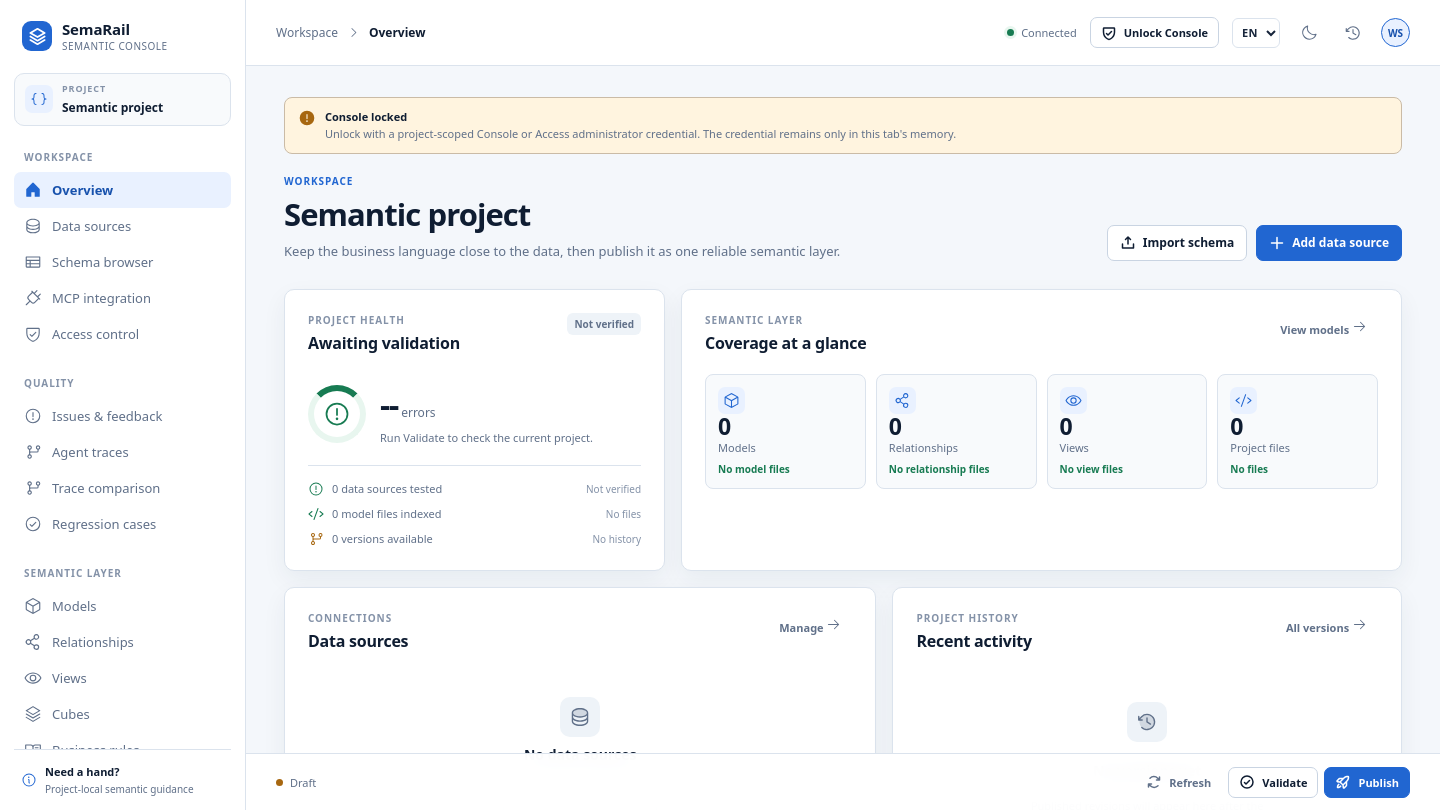
Test: Semantic Console interactions › exposes Trace comparison as a separate Quality page
Check: the heading "Semantic project" is shown, box [284,193,530,235]
Click the button "Trace comparison" at (122, 488), box [14,470,231,506]
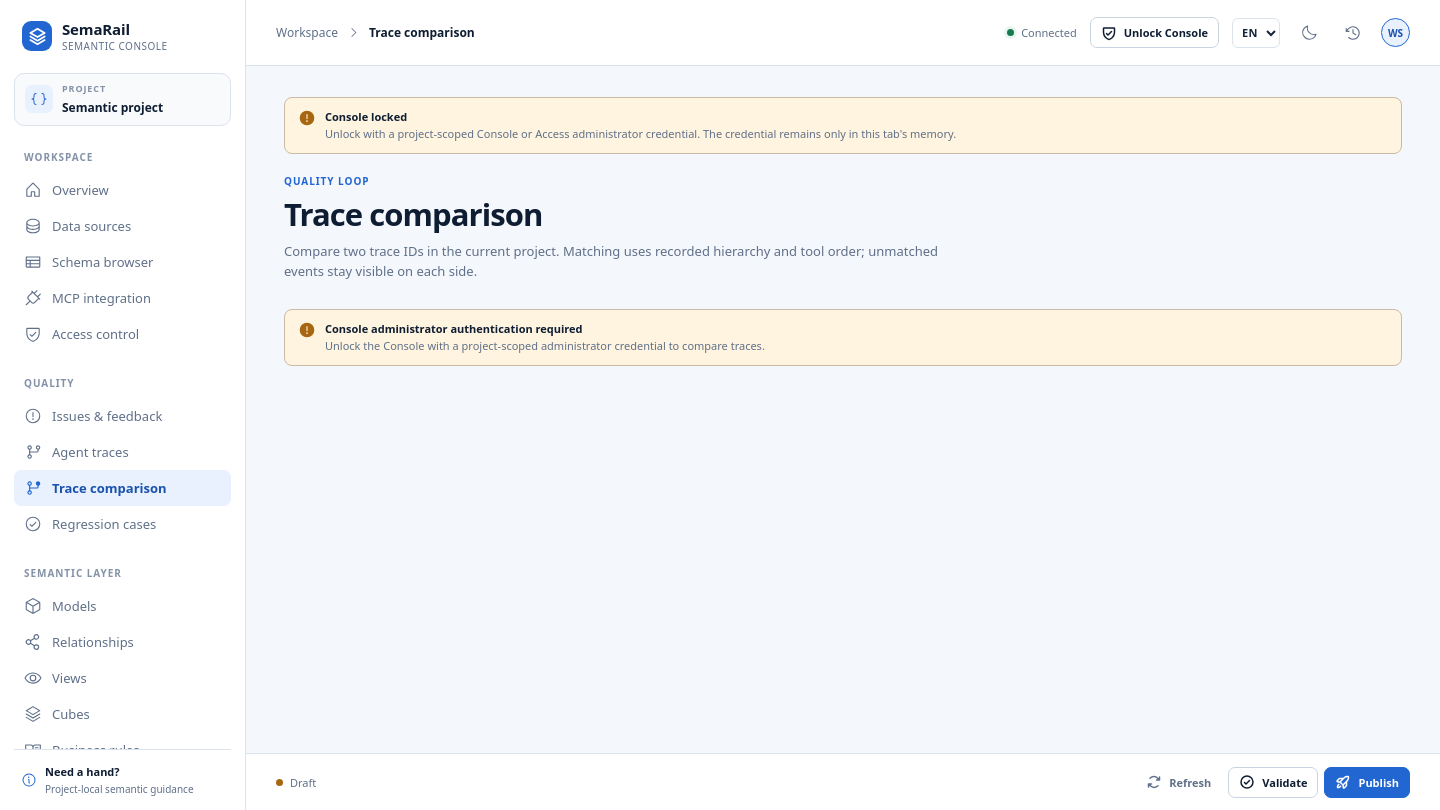
Check: the heading "Trace comparison" is shown, box [284,193,542,235]
Check: the text "Console administrator authentication required" is shown, box [325,321,583,336]
